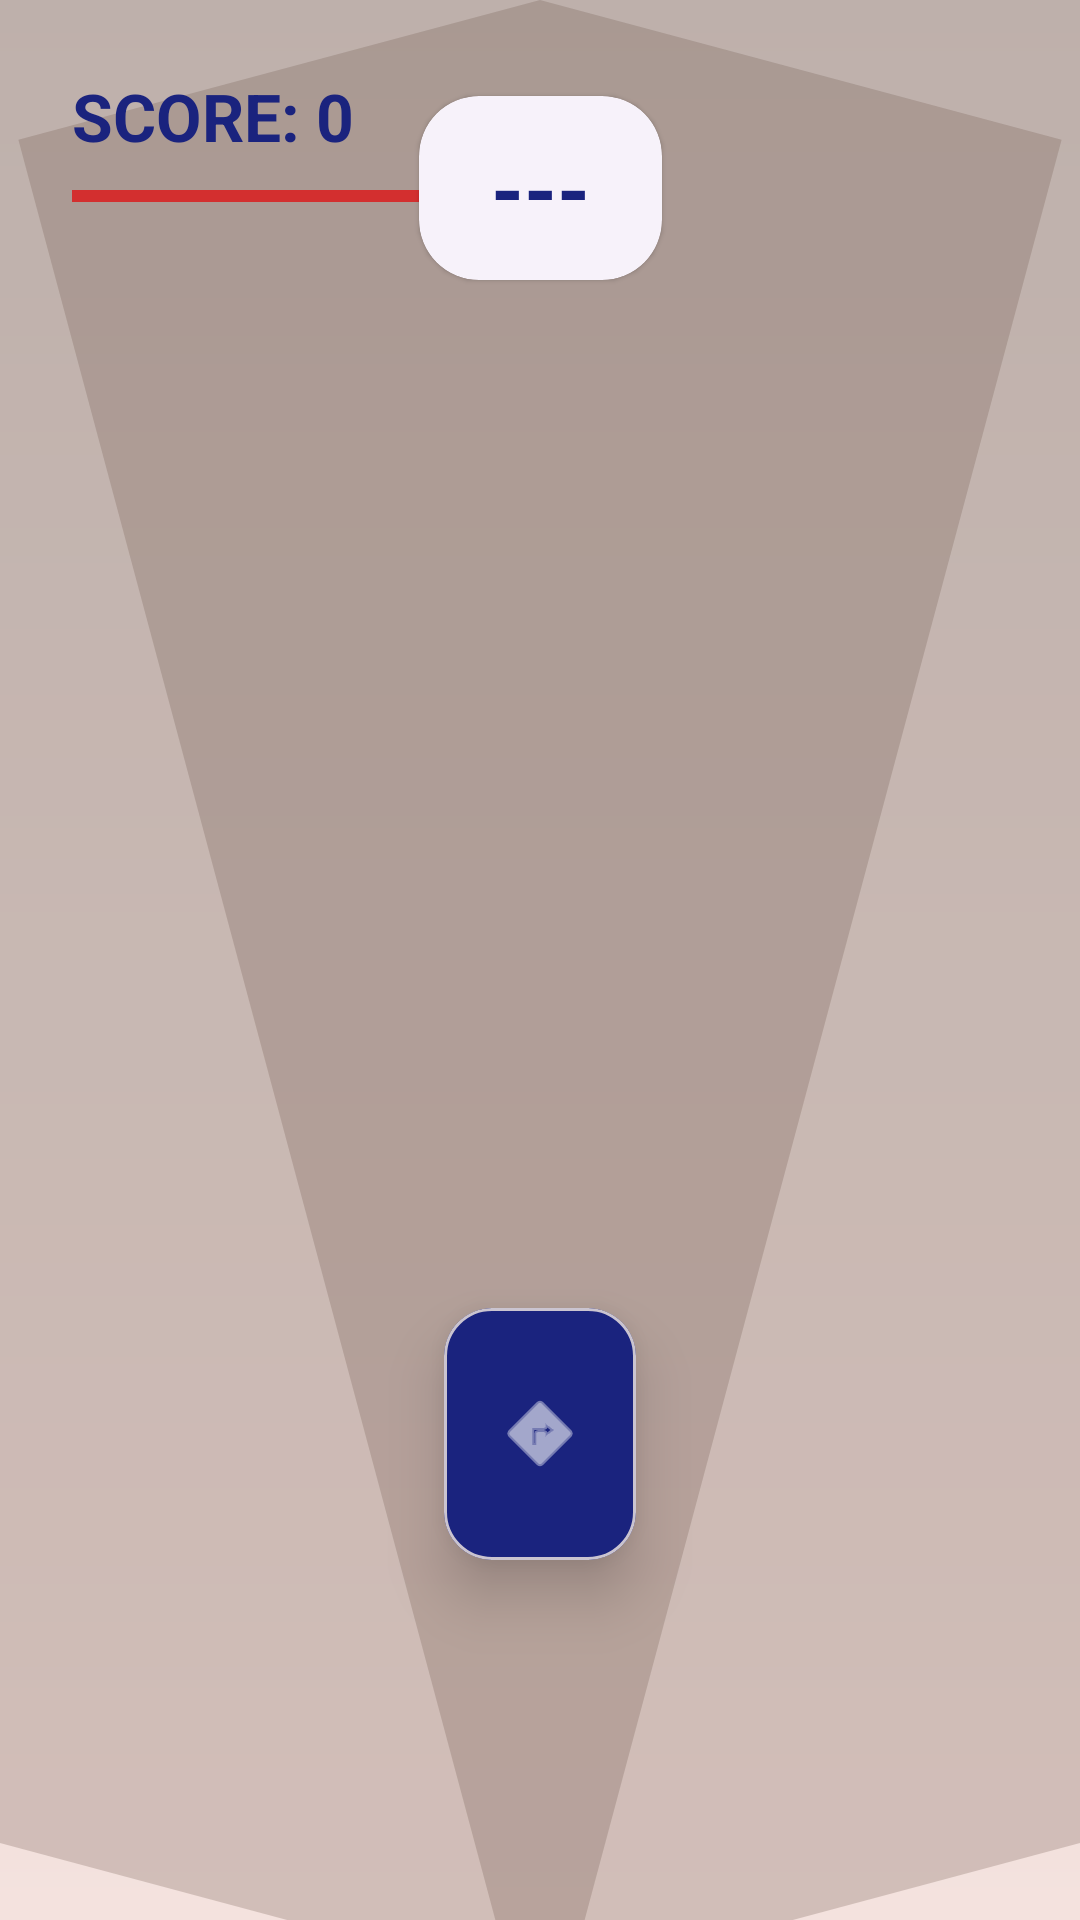

Locate icon controls on the screen. Image size 1080px×1920px, boxes as bbox=(x1, y1, x2, y2).
directions: bbox=(444, 1308, 636, 1560)
